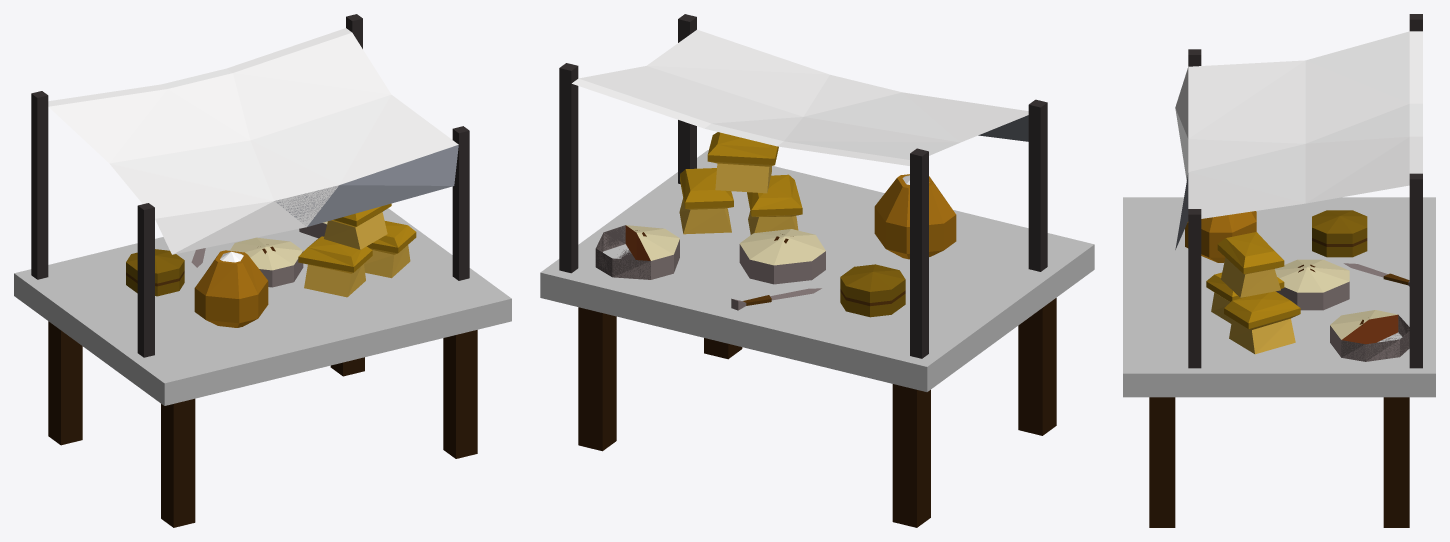
The model's file is bakery_stall_8.obj.
The picture shows the model from 3 angles, left to right: view 1: azimuth 30°, elevation 25°; view 2: azimuth 150°, elevation 25°; view 3: azimuth 270°, elevation 25°; orthographic projection. The views are drawn at different scales.
Parts seen in each view (by area): view 1: 1445; view 2: 1445; view 3: 1445.
Part boxes in pixels (bbox=[...]): 1445: bbox=[14, 14, 511, 527]; 1445: bbox=[540, 14, 1094, 527]; 1445: bbox=[1123, 14, 1435, 527].
Bounding box in the file's own units: 256 × 240 × 192.
